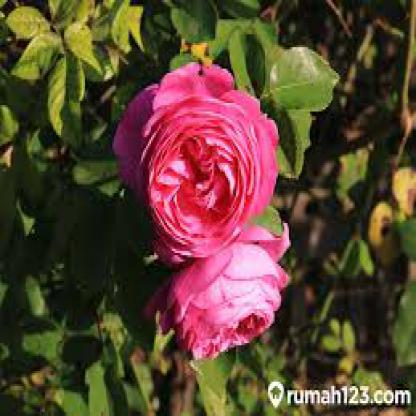Rose-Mawar: (107, 57, 289, 361)
